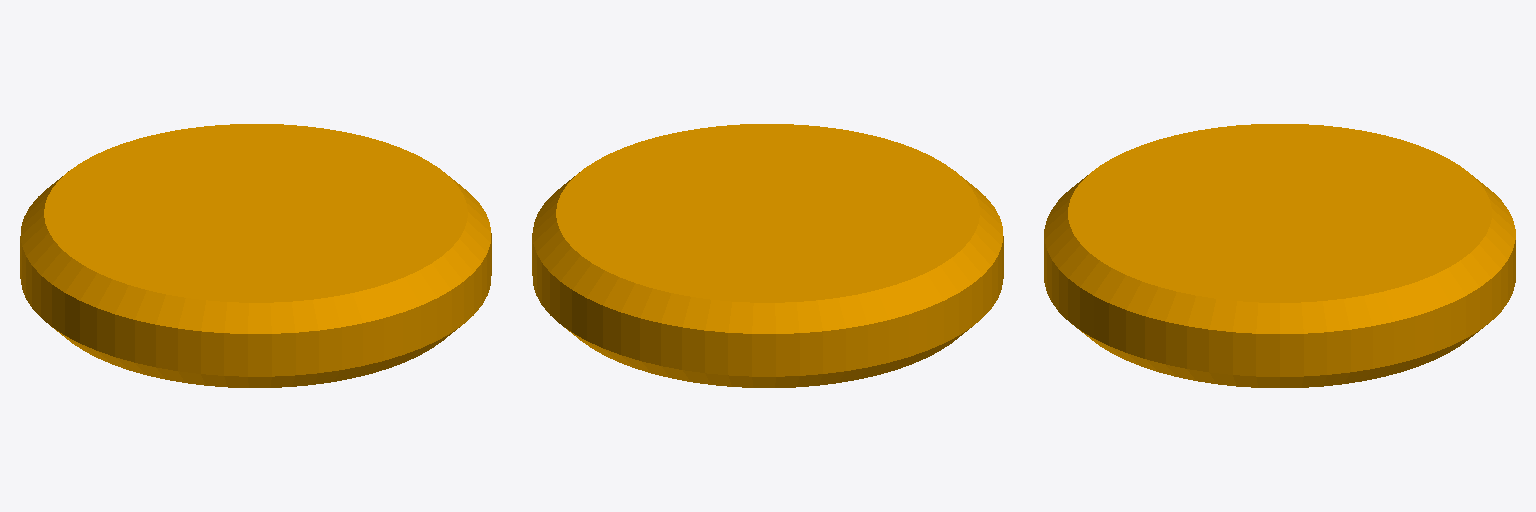
robot.urdf — coin:
<?xml version="1.0"?>
<robot name="coin">
  <link name="coin">
    <visual>
      <origin xyz="0 0 0" rpy="0 0 0" />
      <geometry>
        <mesh filename="coin.obj" scale="1000 1000 1000" />
      </geometry>
    </visual>

    <!-- <collision>
      <origin xyz="0 0 0" rpy="0 0 0" />
      <geometry>
        <mesh filename="coin.obj" scale="1000 1000 1000" />
      </geometry>
    </collision> -->

    <collision>
      <origin xyz="0 0 0" rpy="0 0 0" />
      <geometry>
        <cylinder length="2" radius="15" />
      </geometry>
    </collision>               

    <!-- <collision>
      <origin xyz="0 0 0" rpy="0 0 0" />
      <geometry>
        <cylinder length="2" radius="15" />
      </geometry>
    </collision> -->
  </link>
    
</robot>

--- What the picture shows (computed from the rendered views, not written in the file) ---
The picture shows the robot from 3 angles, left to right: view 1: azimuth 30°, elevation 25°; view 2: azimuth 150°, elevation 25°; view 3: azimuth 270°, elevation 25°; orthographic projection.
Robot: coin — 1 links, 0 joints (none); root link coin; default pose: all joints at 0.
Visible links, largest first — view 1: coin; view 2: coin; view 3: coin.
Boxes of the visible links, left/top/right/bottom form: coin: left=20, top=124, right=491, bottom=387; coin: left=532, top=124, right=1003, bottom=387; coin: left=1044, top=124, right=1515, bottom=387.
Size in the robot's own frame: 30 by 29.96 by 6 metres.
1 mesh visuals loaded from 1 distinct referenced files (1 OBJ).
